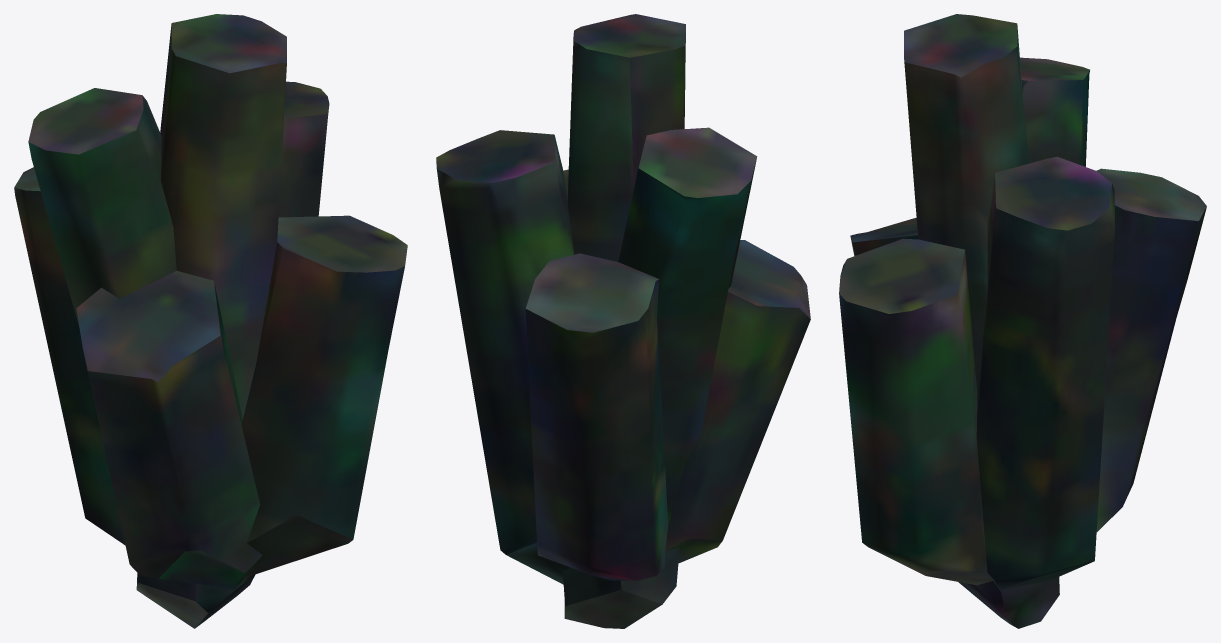
The model's file is objects_un_dlc1_crystal01_07.gltf.
3 views of the same model, side by side, from view 1: azimuth 30°, elevation 25°; view 2: azimuth 150°, elevation 25°; view 3: azimuth 270°, elevation 25° (orthographic). The views are drawn at different scales.
Visible parts, largest first — view 1: crystal_07_in_shape:objects_un_dlc1_crystal01_02; view 2: crystal_07_in_shape:objects_un_dlc1_crystal01_02; view 3: crystal_07_in_shape:objects_un_dlc1_crystal01_02.
Boxes of the visible parts, x1,y1,x2,y2 form: crystal_07_in_shape:objects_un_dlc1_crystal01_02: (14,14,407,628); crystal_07_in_shape:objects_un_dlc1_crystal01_02: (436,14,810,628); crystal_07_in_shape:objects_un_dlc1_crystal01_02: (839,14,1206,628).
Size of what is drawn, in the model's own units: 4.15 by 7.61 by 4.32.
Materials: 1 (1 with a texture image).
